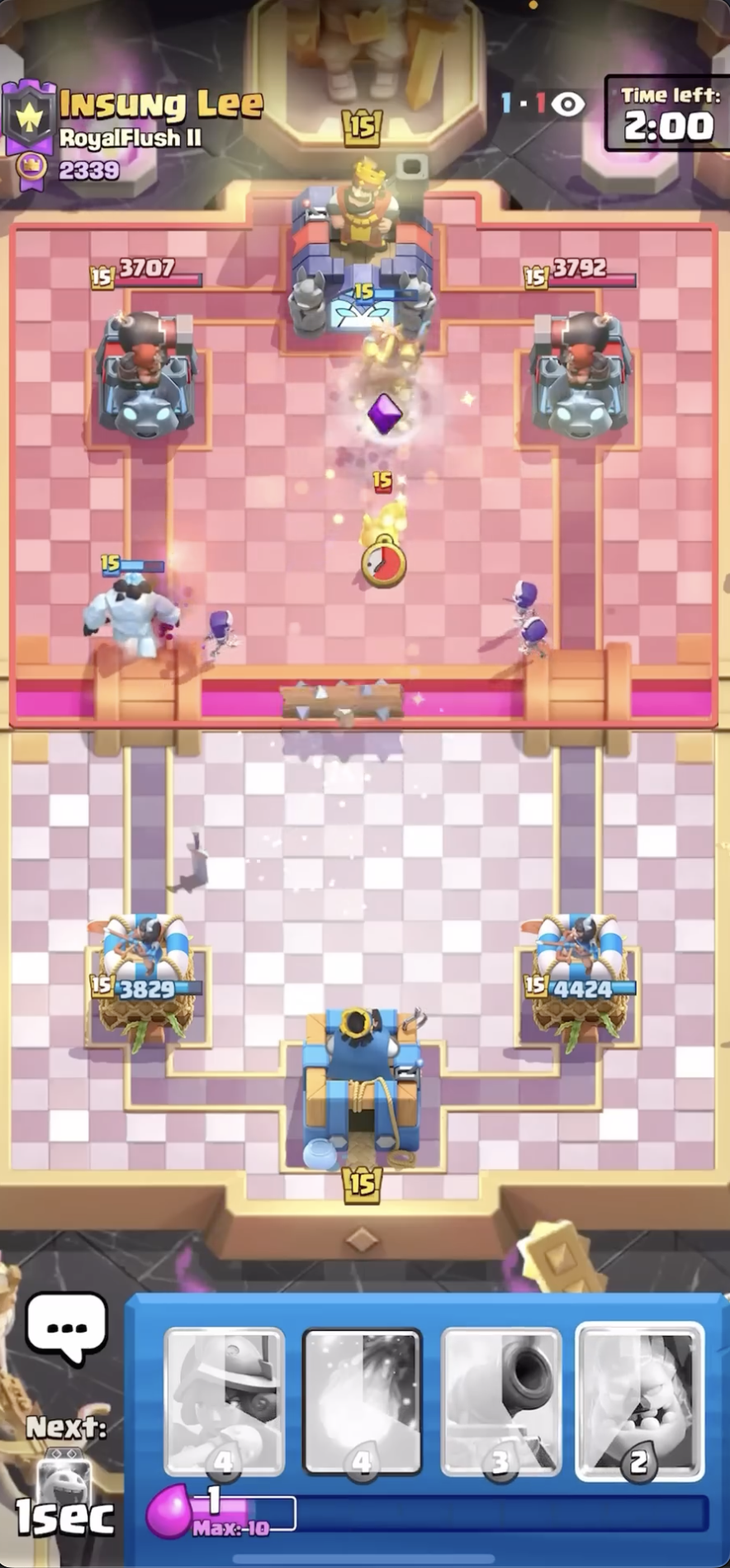bomber: (352, 462, 429, 567)
